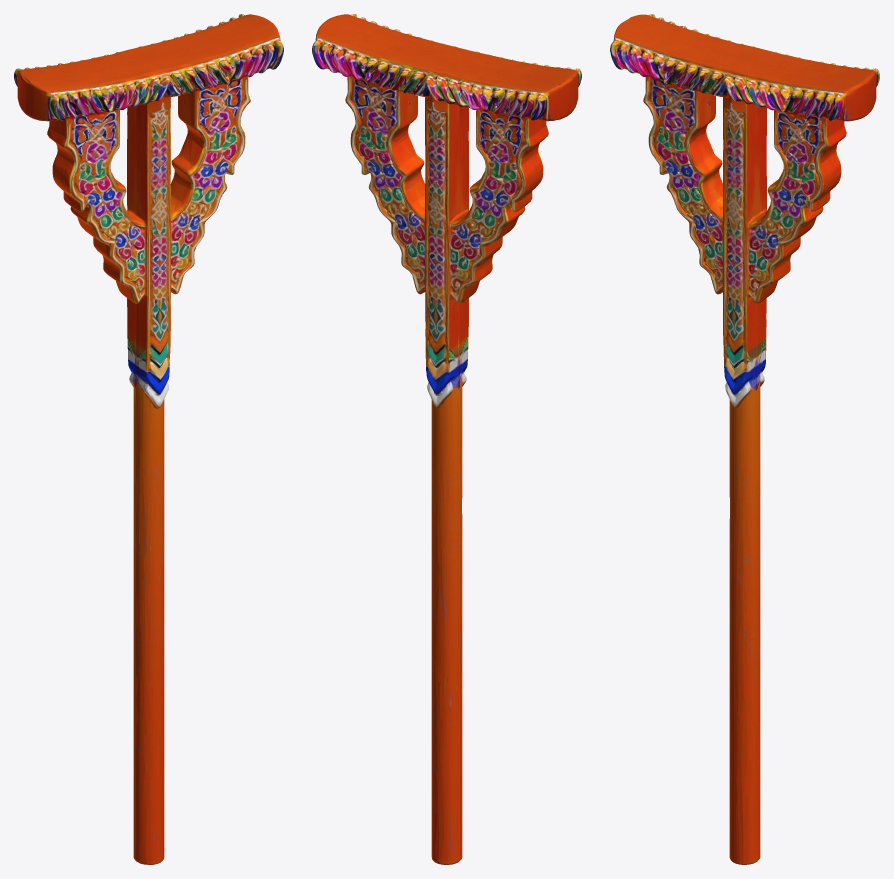
Rendered from toono2.glb.
3 renders of one model, left to right at view 1: azimuth 30°, elevation 25°; view 2: azimuth 150°, elevation 25°; view 3: azimuth 330°, elevation 25°, orthographic.
Size of the model in its own units: 0.6021 by 1.9 by 0.1814.
Materials: 1 (1 with a texture image).
